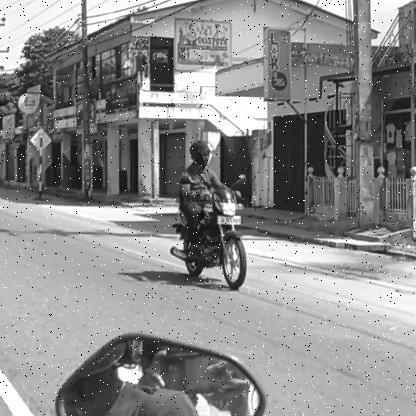motorcycle: (168, 186, 252, 293)
